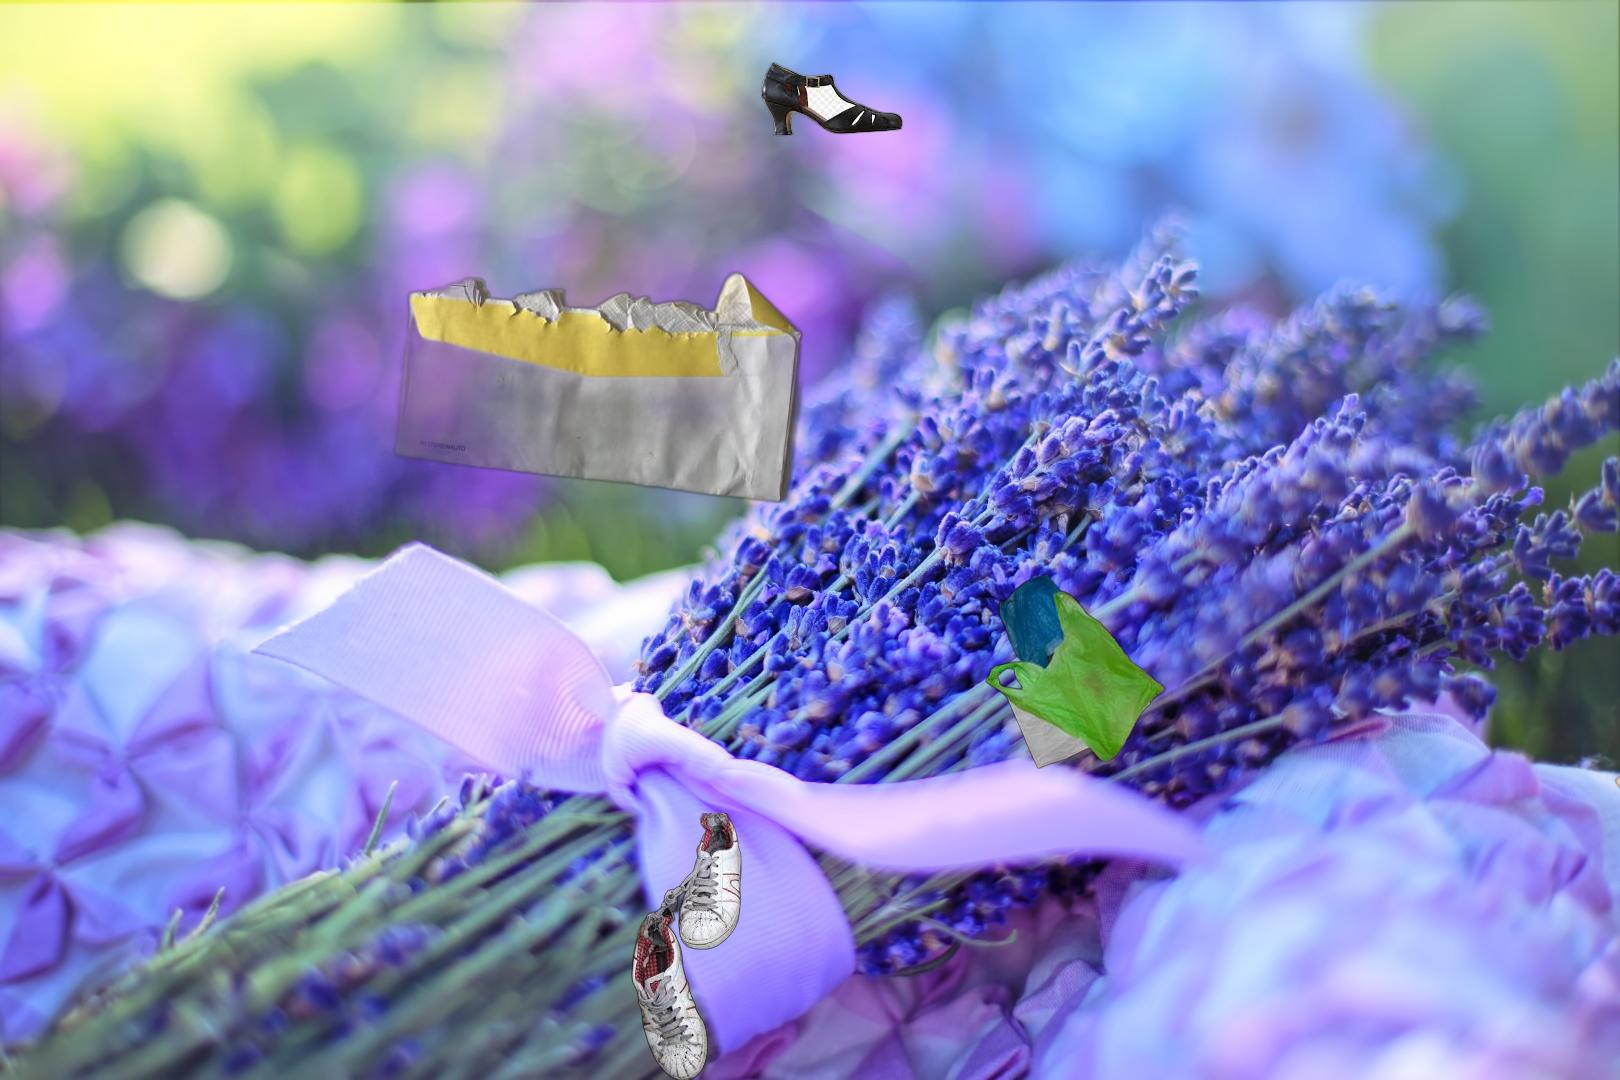metal-cans: (257, 893, 495, 1080)
paper: (386, 268, 812, 506)
paper-bag: (1613, 704, 1620, 900)
plastic-bag: (984, 571, 1168, 770)
shoes: (629, 812, 744, 1080), (759, 61, 905, 139)
